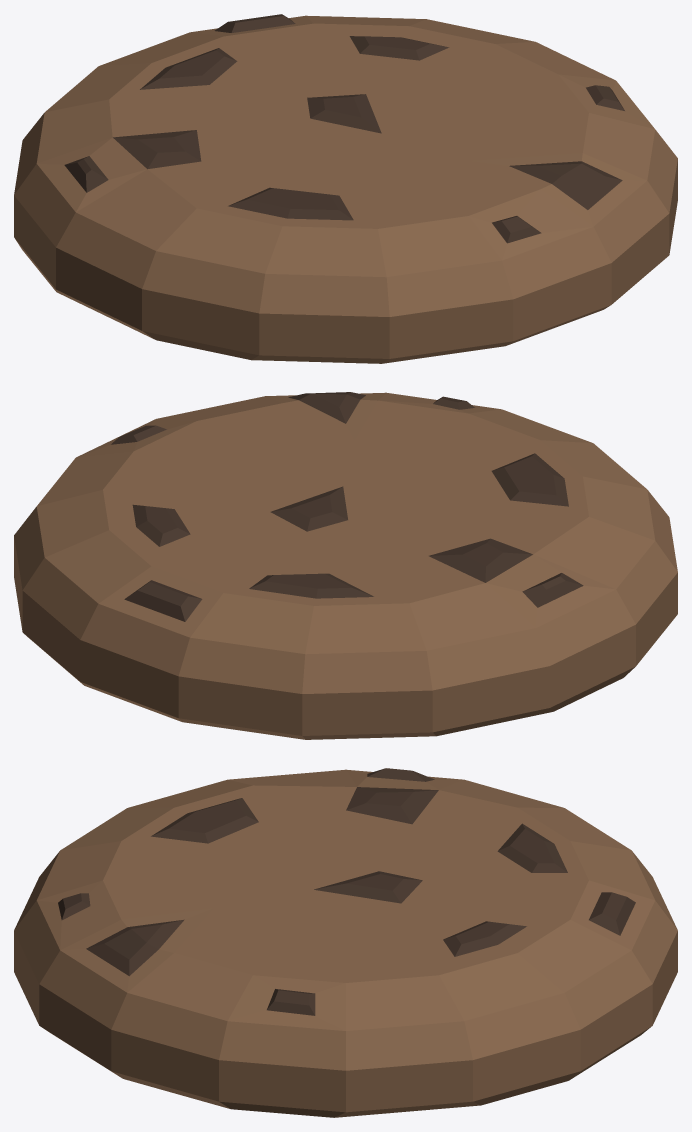
File: CookiePlatform.fbx
3 views of the same model, one above another, from view 1: azimuth 30°, elevation 25°; view 2: azimuth 150°, elevation 25°; view 3: azimuth 270°, elevation 25° (orthographic).
Parts seen in each view (by area): view 1: Cookie1; view 2: Cookie1; view 3: Cookie1.
Part boxes in pixels (x1,y1,x2,y2): Cookie1: (14,14,677,363); Cookie1: (14,392,677,739); Cookie1: (14,768,677,1117).
Bounding box in the file's own units: 600 × 600 × 105.
